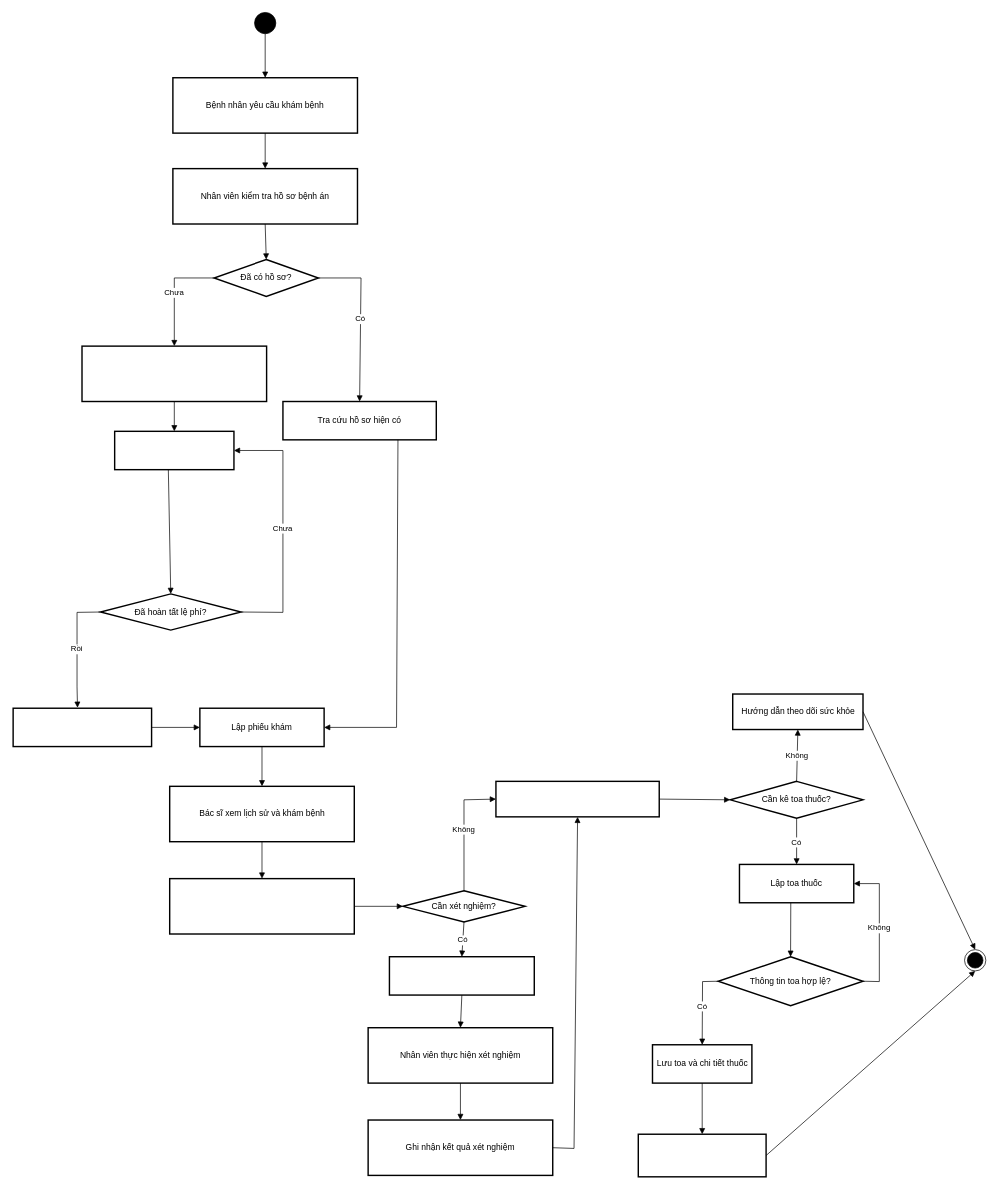
Image size: 998x1190. Some labels were removed from this diagram. Each missing label, with the box of its shape:
Bác sĩ xem kết quả và chẩn đoán: (495, 780, 660, 817)
Chỉ định xét nghiệm: (388, 956, 535, 995)
Cấp hồ sơ bệnh án: (12, 707, 152, 747)
Ghi nhận triệu chứng, chỉ số sức khỏe: (169, 878, 355, 934)
Giao toa, hướng dẫn sử dụng: (637, 1133, 766, 1177)
Nhập thông tin đăng ký lần đầu: (81, 345, 267, 402)
Thu lệ phí năm: (114, 430, 234, 470)
